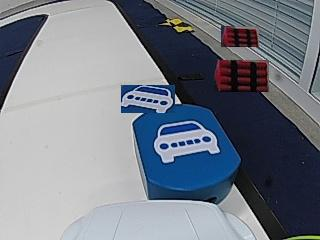safety: (154, 120, 222, 163)
